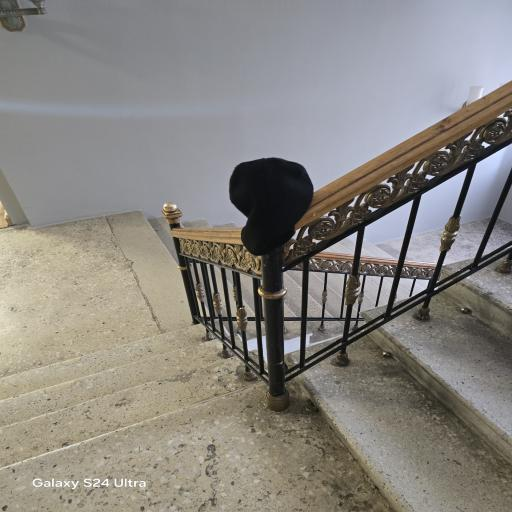sofa: (0, 212, 388, 511), (298, 263, 511, 511)
